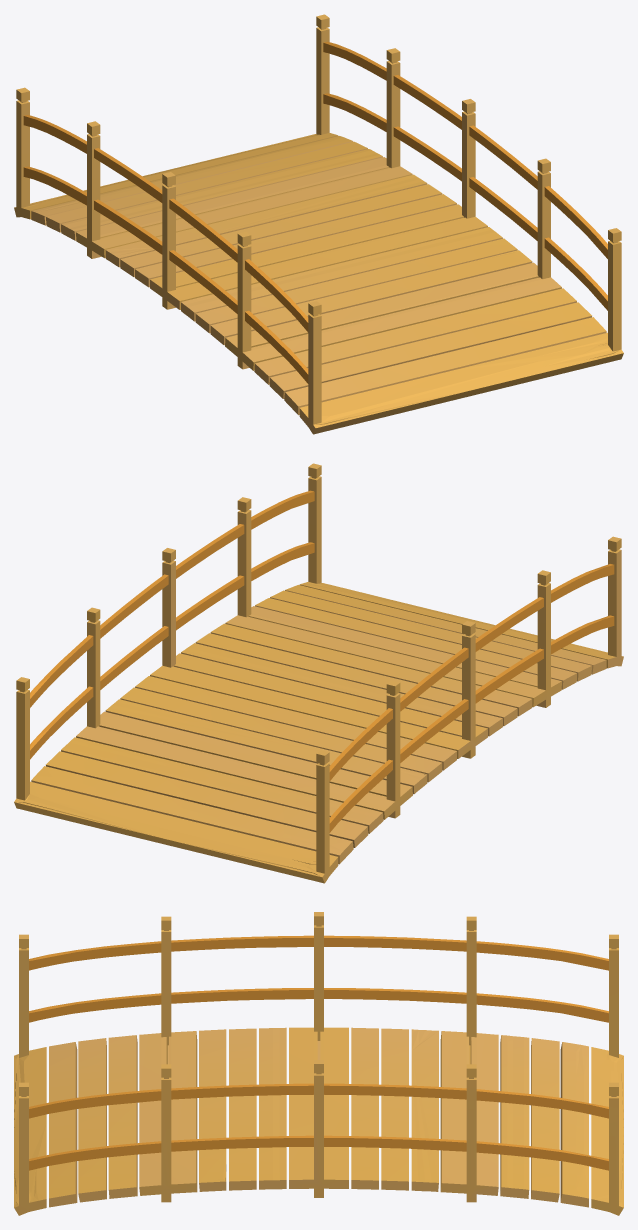
The model's file is 19th-street-bridge.glb.
The picture shows the model from 3 angles, top to bottom: view 1: azimuth 30°, elevation 25°; view 2: azimuth 150°, elevation 25°; view 3: azimuth 270°, elevation 25°; orthographic projection.
Parts seen in each view (by area): view 1: 19th-Street-Bridge; view 2: 19th-Street-Bridge; view 3: 19th-Street-Bridge.
Boxes of the visible parts, box(x1,y1,x2,y2) form: 19th-Street-Bridge: box(14, 14, 623, 434); 19th-Street-Bridge: box(14, 463, 623, 883); 19th-Street-Bridge: box(14, 912, 623, 1215).
Bounding box in the file's own units: 3.59 × 1.67 × 6.09.
Materials: 1 (1 with a texture image).
